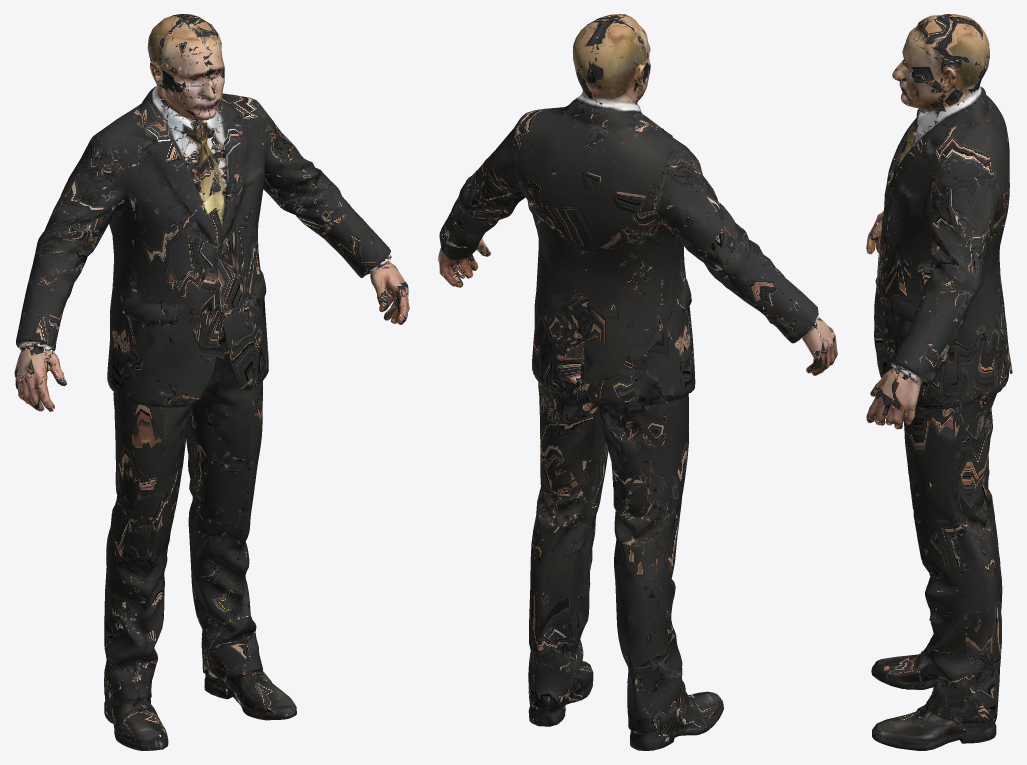
Rendered from putin.runtime.glb.
3 views of the same model, side by side, from view 1: azimuth 30°, elevation 25°; view 2: azimuth 150°, elevation 25°; view 3: azimuth 270°, elevation 25° (orthographic).
Parts seen in each view (by area): view 1: Object_7, Object_6, Object_4, Object_8, Object_9, Object_5; view 2: Object_8, Object_7, Object_4, Object_6, Object_5, Object_9; view 3: Object_7, Object_8, Object_6, Object_4, Object_9, Object_5.
Boxes of the visible parts, box(x1,y1,x2,y2) form: Object_7: box(31, 14, 326, 721); Object_6: box(19, 83, 408, 750); Object_4: box(14, 20, 409, 750); Object_8: box(16, 15, 374, 733); Object_9: box(14, 26, 399, 747); Object_5: box(17, 58, 404, 705); Object_8: box(439, 14, 813, 747); Object_7: box(450, 14, 774, 735); Object_4: box(438, 27, 836, 750); Object_6: box(441, 110, 835, 731); Object_5: box(448, 67, 837, 711); Object_9: box(438, 14, 829, 727); Object_7: box(904, 14, 1008, 750); Object_8: box(894, 15, 1011, 742); Object_6: box(866, 66, 1009, 750); Object_4: box(867, 24, 1012, 743); Object_9: box(894, 17, 934, 741); Object_5: box(866, 61, 990, 728).
Size of the model in its own units: 1.11 by 1.9 by 0.3632.
1 material, 1 textured.
